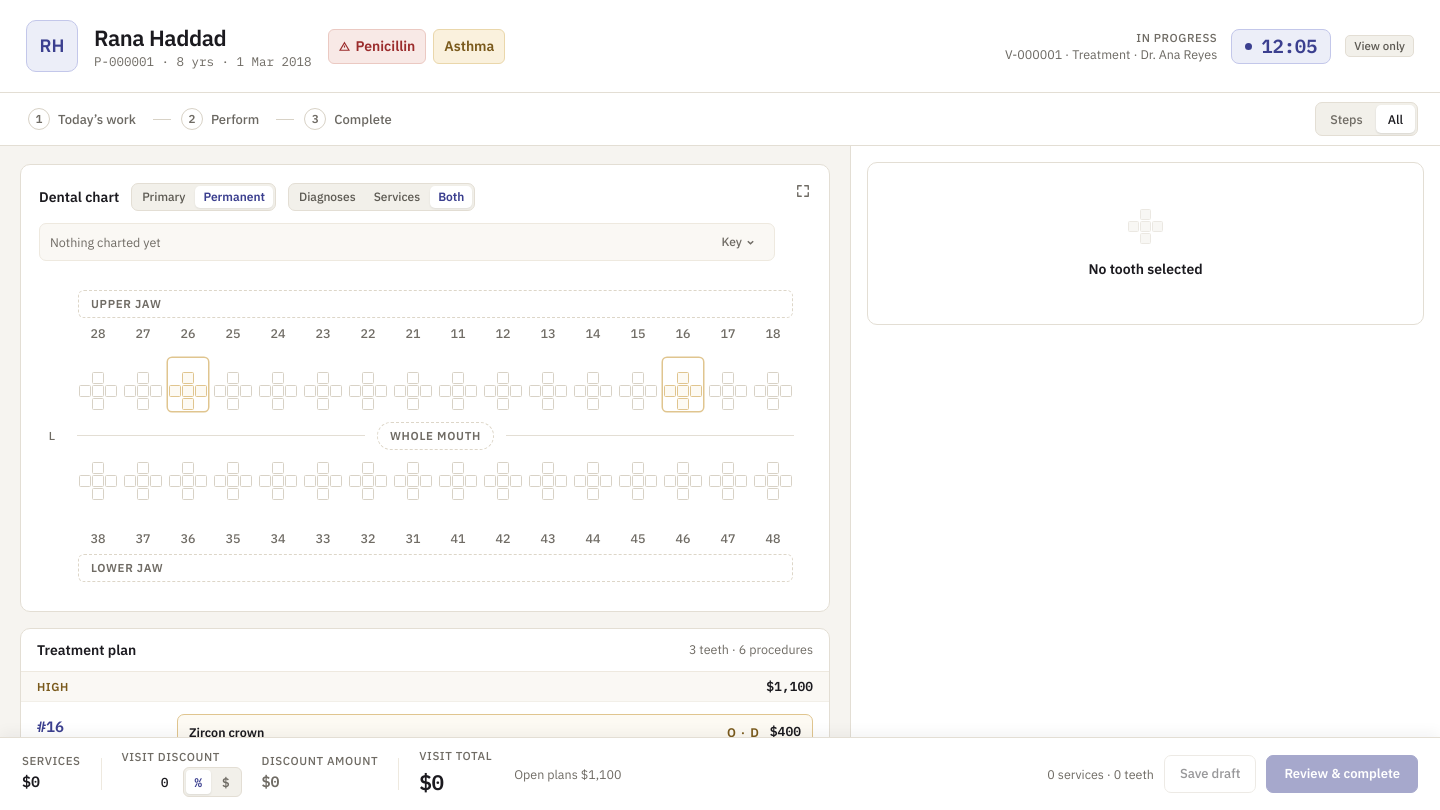
Test: PlanBoard › is read-only for front desk: no Perform now, the tooth link still selects
The image size is (1440, 810).
Expected: the element named "Upper arch" is shown, [78, 324, 793, 411]
Click the button "#16": click(50, 727) [37, 718, 64, 735]
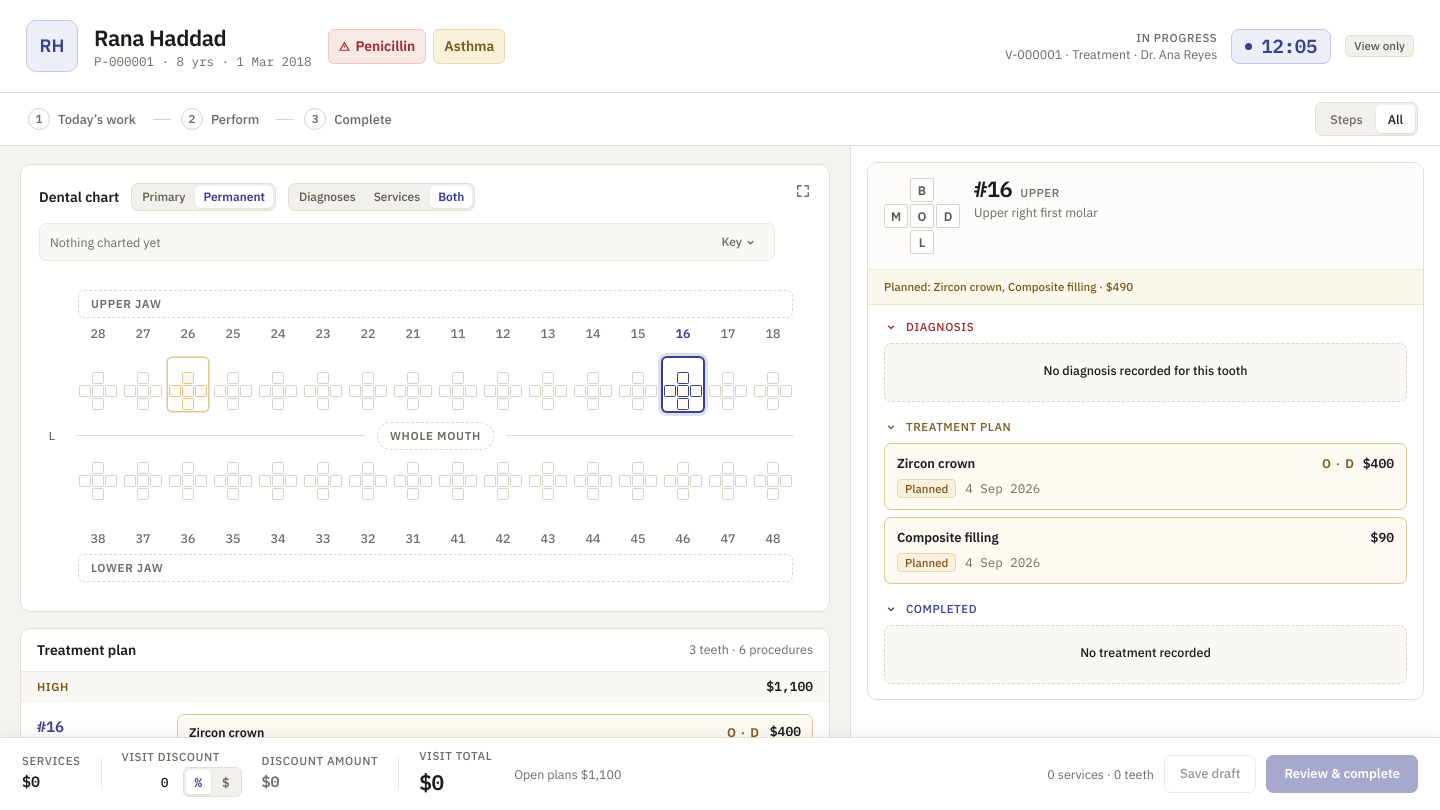
Now the heading "#16" is shown, box [974, 178, 1012, 200]
